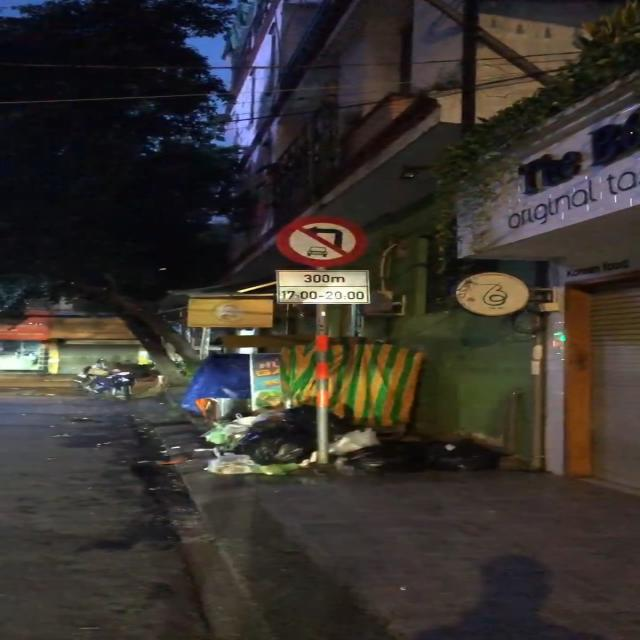Bien bao cam xe o to re trai: (273, 214, 374, 270)
